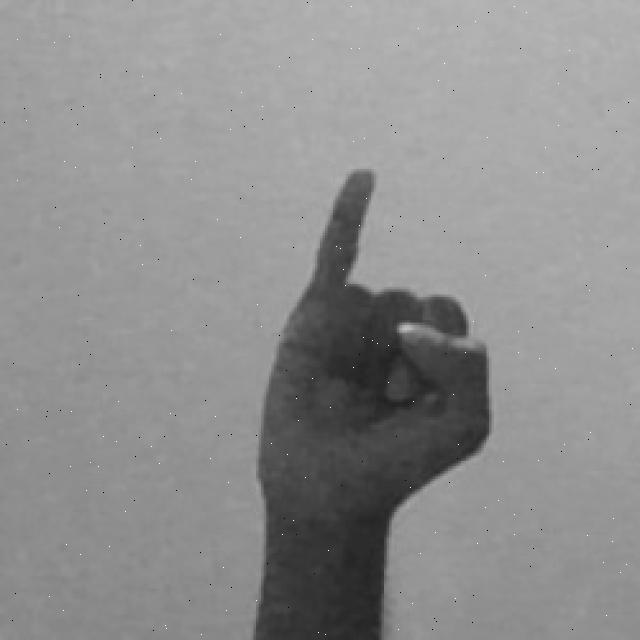I: (251, 166, 494, 640)
